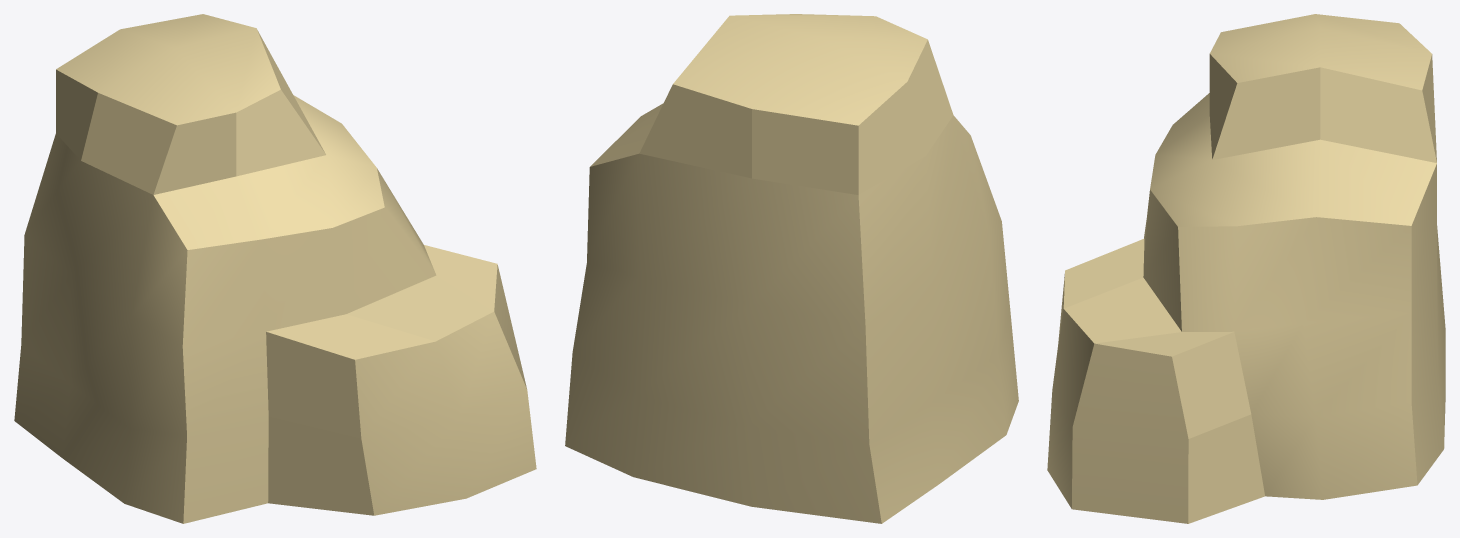
The model's file is atoll_rockLarge01.fbx.
3 views of the same model, side by side, from view 1: azimuth 30°, elevation 25°; view 2: azimuth 150°, elevation 25°; view 3: azimuth 270°, elevation 25° (orthographic). The views are drawn at different scales.
Parts seen in each view (by area): view 1: pasted__ROCK_LARGE; view 2: pasted__ROCK_LARGE; view 3: pasted__ROCK_LARGE.
Boxes of the visible parts, x1,y1,x2,y2 form: pasted__ROCK_LARGE: (14,14,536,523); pasted__ROCK_LARGE: (565,14,1018,523); pasted__ROCK_LARGE: (1047,14,1445,523).
Bounding box in the file's own units: 43.42 × 42.36 × 41.25.
